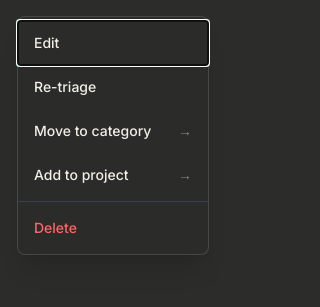
Test case: ContextMenu — submenu layout (D-11, D-12) › mobile (openedVia=touch): tapping Move to category replaces root contents with ← Categories header
Click the menu item "Move to category →" at (113, 131), box [18,109,208,153]
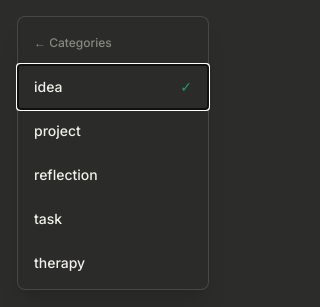
Now the menu item "Re-triage" is gone
Now the button "← Categories" is shown, box [18,21,208,65]
